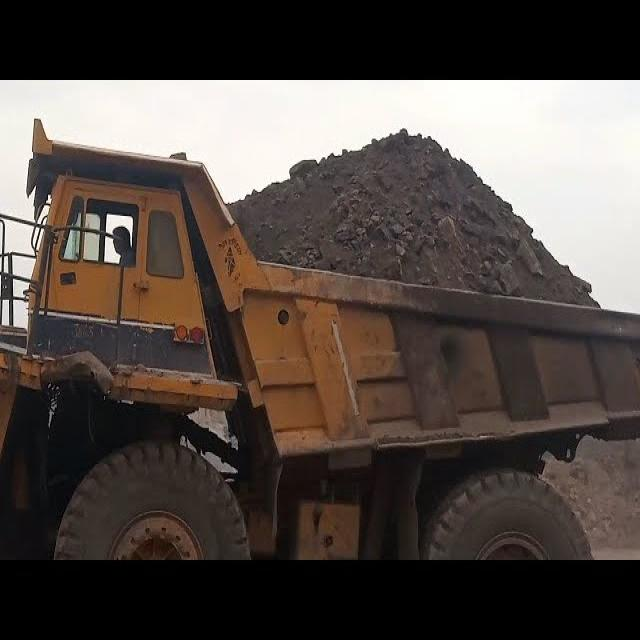dump_truck: (21, 119, 636, 572)
